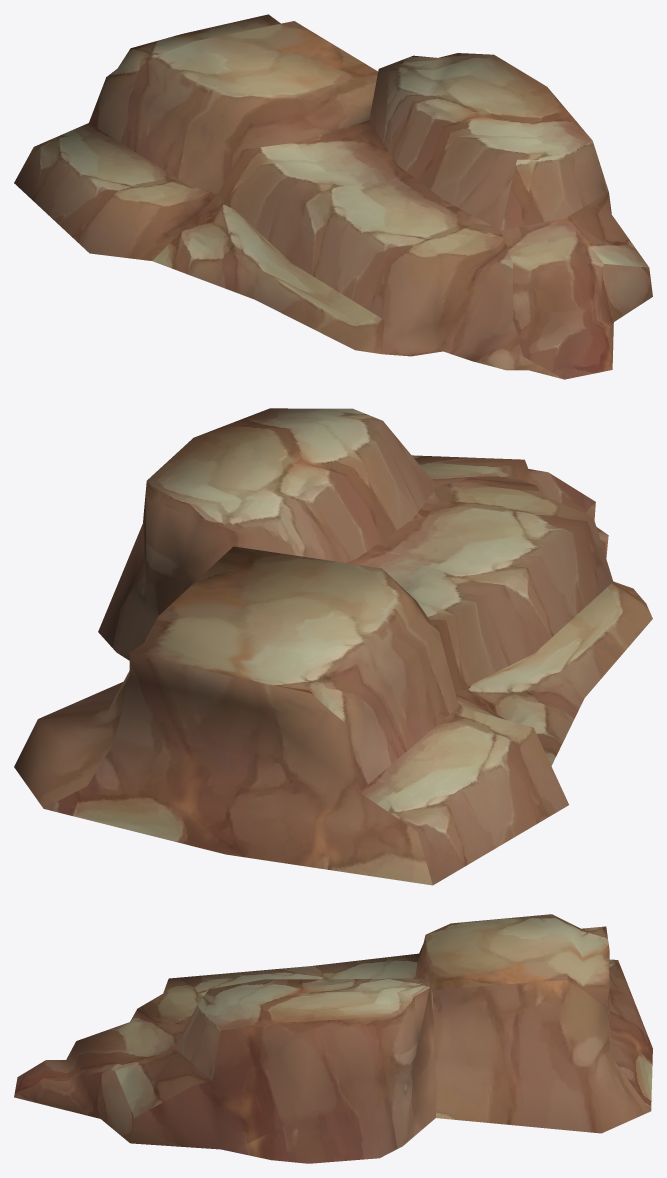
File: Map_11_stone05.FBX
The picture shows the model from 3 angles, top to bottom: view 1: azimuth 30°, elevation 25°; view 2: azimuth 150°, elevation 25°; view 3: azimuth 270°, elevation 25°; orthographic projection. The views are drawn at different scales.
Parts seen in each view (by area): view 1: Map_11_stone05; view 2: Map_11_stone05; view 3: Map_11_stone05.
Boxes of the visible parts, box(x1,y1,x2,y2) form: Map_11_stone05: box(14, 14, 652, 379); Map_11_stone05: box(14, 408, 652, 885); Map_11_stone05: box(14, 914, 652, 1163).
Size of the model in its own units: 326 by 473 by 102.
